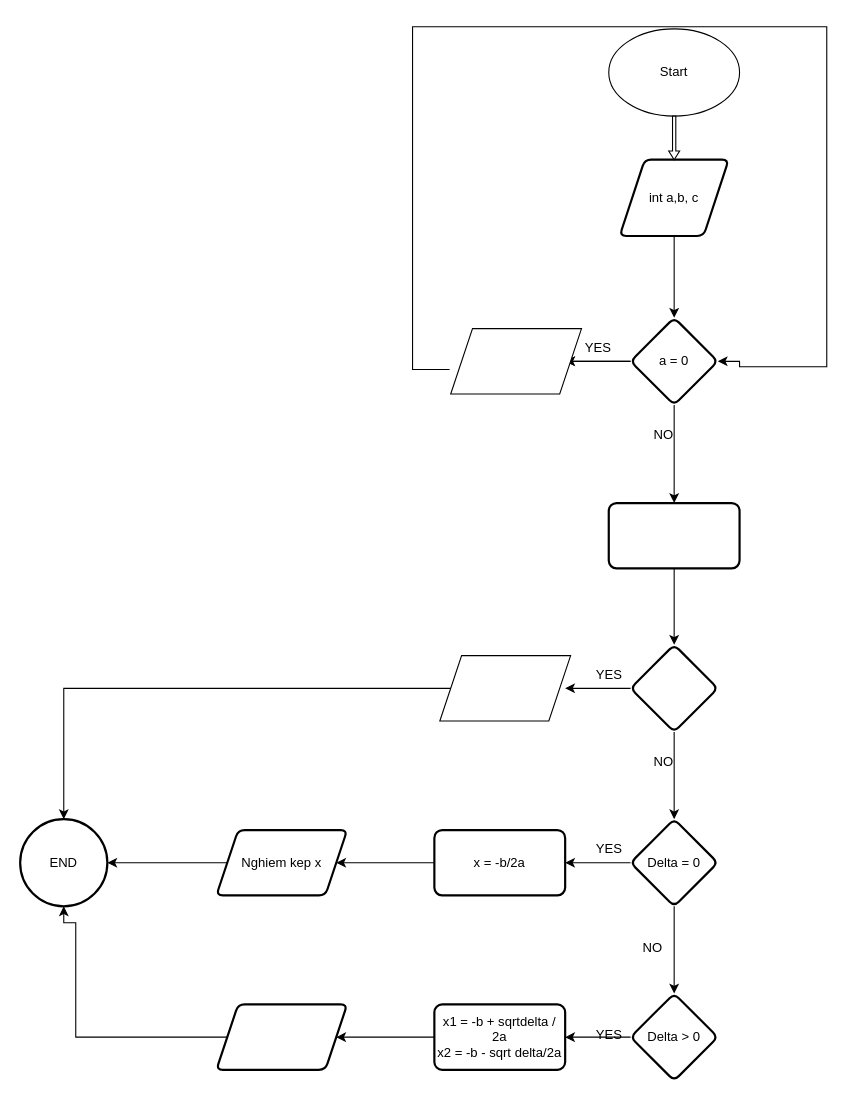
This 855x1101 diagram has some shape labels left out. The centre of each missing label's shape, as x and y in pixels:
Delta < 0: the point at 673,687
Delta = b^2 - 4ac: the point at 673,535
int a: the point at 516,361
PT co 2 nghiem x1 va x2: the point at 281,1036
Vo nghiem: the point at 505,688
